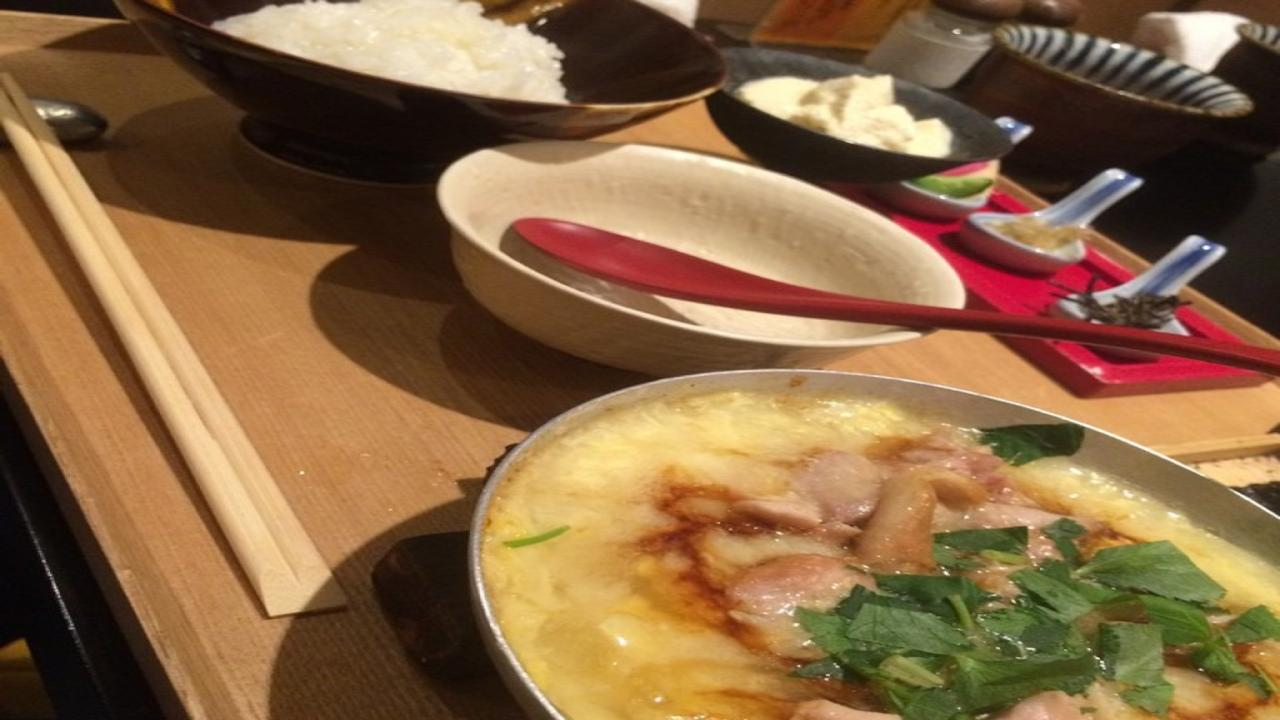chopstick: (0, 70, 355, 611)
